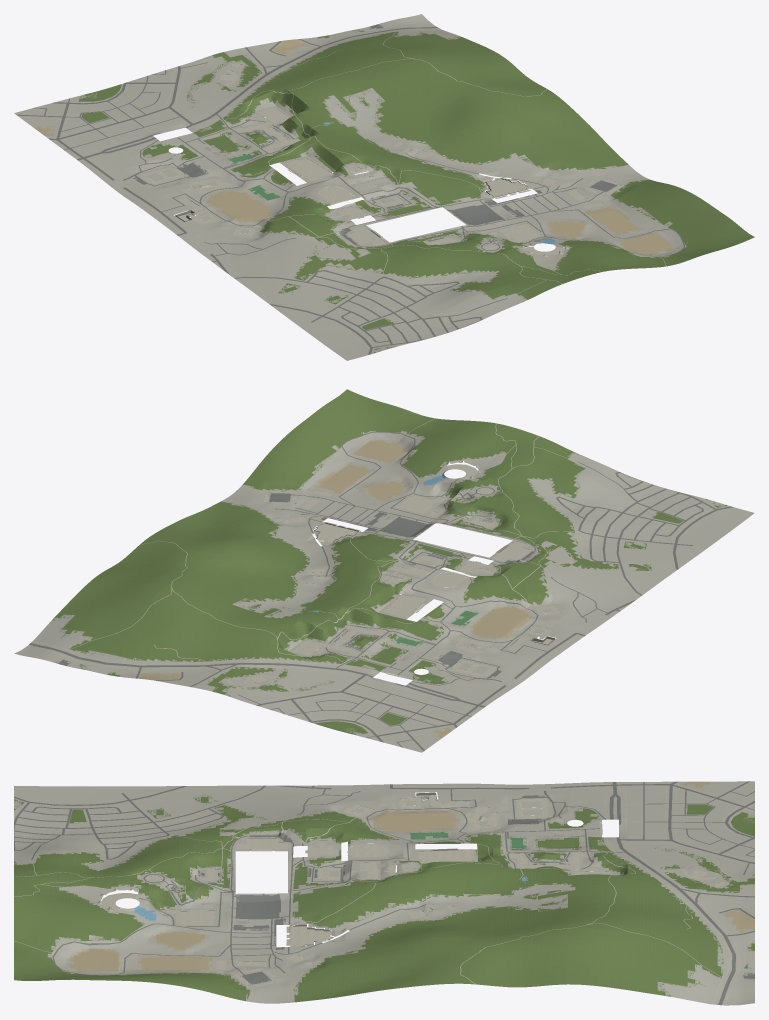
3 views of the same model, one above another, from view 1: azimuth 30°, elevation 25°; view 2: azimuth 150°, elevation 25°; view 3: azimuth 270°, elevation 25° (orthographic). The views are drawn at different scales.
Visible parts, largest first — view 1: kyungheeGlobal-base, kyungheeGlobal-wood, kyungheeGlobal-asphalt, kyungheeGlobal-paving, kyungheeGlobal-dirtField, kyungheeGlobal-wood-overlay, kyungheeGlobal-grass; view 2: kyungheeGlobal-base, kyungheeGlobal-wood, kyungheeGlobal-asphalt, kyungheeGlobal-paving, kyungheeGlobal-dirtField, kyungheeGlobal-wood-overlay, kyungheeGlobal-grass; view 3: kyungheeGlobal-base, kyungheeGlobal-wood, kyungheeGlobal-asphalt, kyungheeGlobal-paving, kyungheeGlobal-dirtField, kyungheeGlobal-wood-overlay, kyungheeGlobal-grass, kyungheeGlobal-pitchTurf, aeji__exteriorFoundationClosure, kyungheeGlobal-dirtField-overlay.
Part boxes in pixels (x1,y1,x2,y2): kyungheeGlobal-base: (14,14,688,360); kyungheeGlobal-wood: (193,31,754,353); kyungheeGlobal-asphalt: (16,24,685,354); kyungheeGlobal-paving: (51,26,666,355); kyungheeGlobal-dirtField: (34,39,673,254); kyungheeGlobal-wood-overlay: (187,31,688,351); kyungheeGlobal-grass: (78,84,498,329); kyungheeGlobal-base: (14,431,754,752); kyungheeGlobal-wood: (54,389,727,694); kyungheeGlobal-asphalt: (29,431,733,750); kyungheeGlobal-paving: (28,418,746,740); kyungheeGlobal-dirtField: (139,439,531,737); kyungheeGlobal-wood-overlay: (52,431,724,696); kyungheeGlobal-grass: (314,497,683,734); kyungheeGlobal-base: (14,781,754,1005); kyungheeGlobal-wood: (14,799,754,1002); kyungheeGlobal-asphalt: (14,781,754,1005); kyungheeGlobal-paving: (14,781,754,1005); kyungheeGlobal-dirtField: (70,781,754,971); kyungheeGlobal-wood-overlay: (14,800,754,1000); kyungheeGlobal-grass: (69,804,754,891); kyungheeGlobal-pitchTurf: (147,797,754,950); aeji__exteriorFoundationClosure: (151,792,713,985); kyungheeGlobal-dirtField-overlay: (67,782,754,971).
Bounding box in the file's own units: 1120 × 91.09 × 1584.
Materials: 24 (16 with a texture image).
